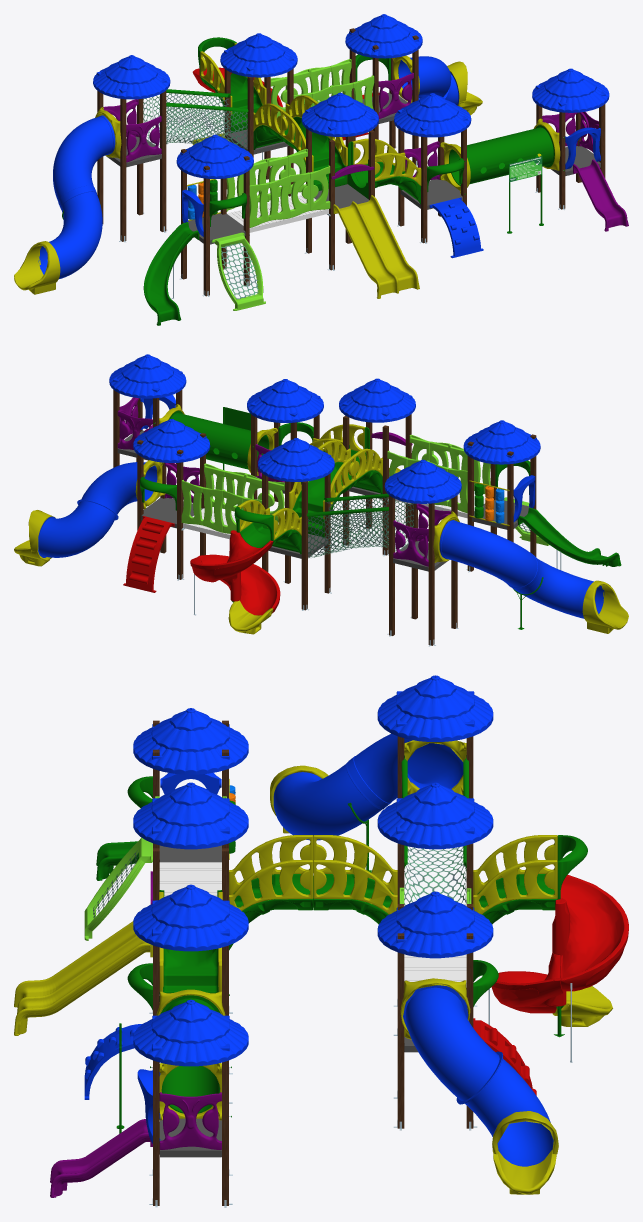
3 renders of one model, top to bottom at view 1: azimuth 30°, elevation 25°; view 2: azimuth 150°, elevation 25°; view 3: azimuth 270°, elevation 25°, orthographic. The views are drawn at different scales.
Visible parts, largest first — view 1: object 8, object 28, TOLDO M2.004, TOLDO M2.001, TOLDO M2, TOLDO M2.006, TOLDO M2.002, TOLDO M2.005, TOLDO M2.003, object 25, COLUNA MAD PLAST 9 X 9CM.002, COLUNA MAD PLAST 9 X 9CM.004 (+39 smaller); view 2: object 8, object 53, object 28, TOLDO M2, TOLDO M2.006, TOLDO M2.001, TOLDO M2.002, TOLDO M2.004, TOLDO M2.003, TOLDO M2.005, object 25, ACESSO M1.001 (+36 smaller); view 3: object 8, object 53, TOLDO M2.004, TOLDO M2.006, TOLDO M2, TOLDO M2.001, TOLDO M2.002, TOLDO M2.005, TOLDO M2.003, object 28, FECHAMENTO M2, ACESSO M1.003 (+16 smaller).
Part boxes in pixels (bbox=[...]): object 8: bbox=[14, 37, 628, 325]; object 28: bbox=[143, 93, 265, 310]; TOLDO M2.004: bbox=[220, 33, 297, 77]; TOLDO M2.001: bbox=[394, 93, 471, 137]; TOLDO M2: bbox=[532, 68, 609, 112]; TOLDO M2.006: bbox=[93, 55, 170, 99]; TOLDO M2.002: bbox=[301, 92, 378, 136]; TOLDO M2.005: bbox=[345, 14, 422, 58]; TOLDO M2.003: bbox=[176, 134, 253, 178]; object 25: bbox=[171, 118, 564, 298]; COLUNA MAD PLAST 9 X 9CM.002: bbox=[120, 98, 126, 241]; COLUNA MAD PLAST 9 X 9CM.004: bbox=[160, 90, 166, 231]; object 8: bbox=[14, 395, 628, 634]; object 53: bbox=[123, 516, 280, 615]; object 28: bbox=[308, 497, 549, 558]; TOLDO M2: bbox=[109, 354, 186, 398]; TOLDO M2.006: bbox=[384, 459, 461, 503]; TOLDO M2.001: bbox=[247, 379, 323, 422]; TOLDO M2.002: bbox=[339, 378, 415, 422]; TOLDO M2.004: bbox=[258, 438, 334, 481]; TOLDO M2.003: bbox=[463, 420, 540, 464]; TOLDO M2.005: bbox=[133, 419, 210, 462]; object 25: bbox=[154, 404, 561, 569]; ACESSO M1.001: bbox=[292, 477, 354, 537]; object 8: bbox=[14, 733, 612, 1197]; object 53: bbox=[473, 875, 628, 1095]; TOLDO M2.004: bbox=[377, 782, 493, 849]; TOLDO M2.006: bbox=[377, 675, 493, 741]; TOLDO M2: bbox=[133, 999, 248, 1066]; TOLDO M2.001: bbox=[133, 884, 248, 951]; TOLDO M2.002: bbox=[133, 782, 248, 849]; TOLDO M2.005: bbox=[377, 891, 493, 958]; TOLDO M2.003: bbox=[133, 708, 248, 774]; object 28: bbox=[84, 837, 466, 940]; FECHAMENTO M2: bbox=[159, 1092, 221, 1149]; ACESSO M1.003: bbox=[159, 948, 218, 1001].
Bounding box in the file's own units: 12.52 × 3.74 × 8.11.
Materials: 24 (3 with a texture image).
